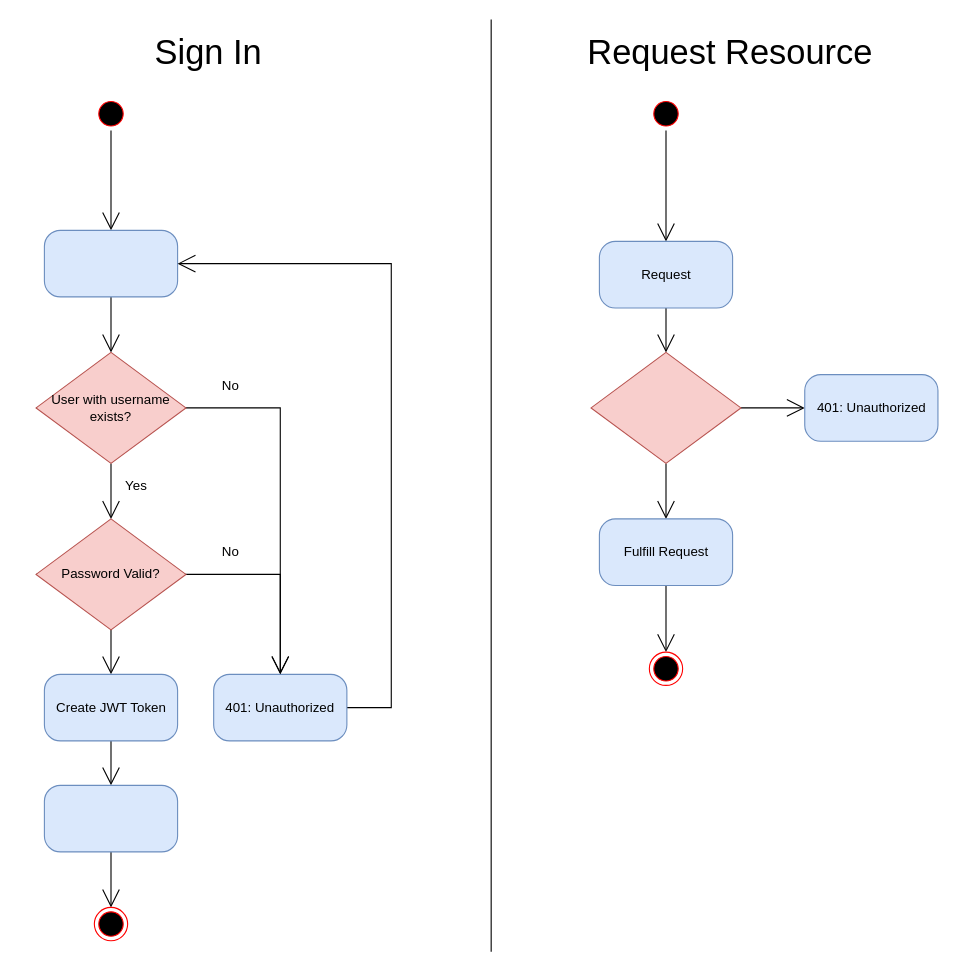
The diagram is 958 pixels wide and 972 high, and some of its shapes have lost their labels. Each missing label, with the centre of its shape:
"Respond with Token" goes at pixel 110 818.
"User enters login credentials" goes at pixel 110 263.
"Valid Token?" goes at pixel 665 407.
